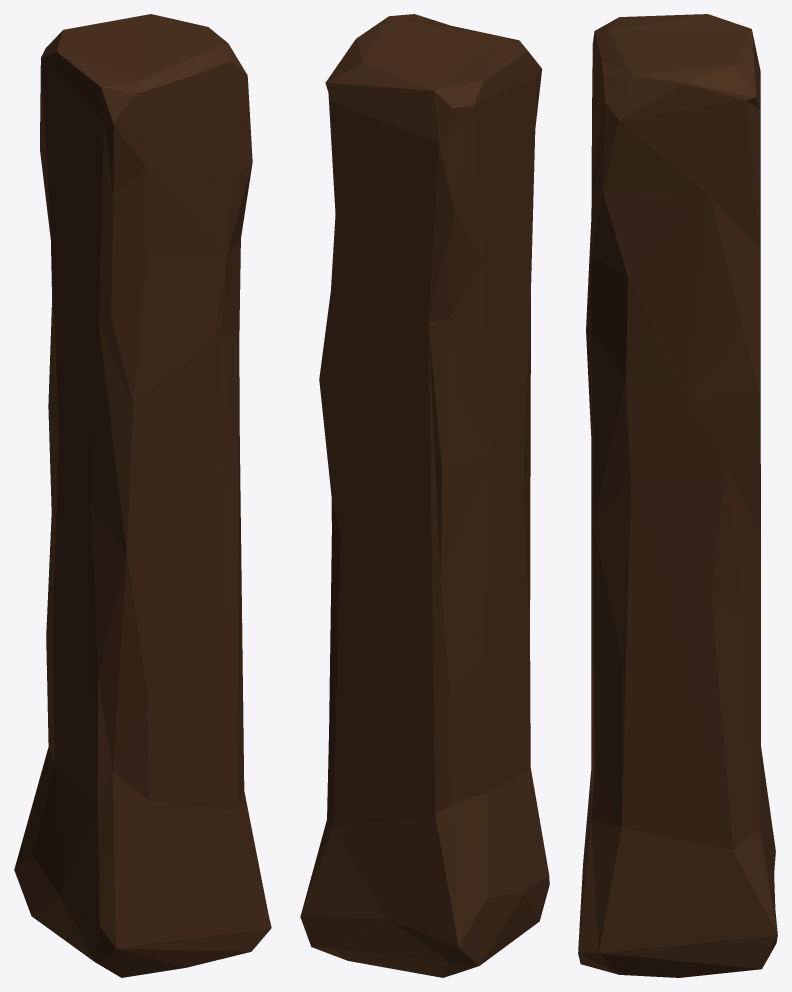
Rendered from HousePost-Wood.fbx.
3 views of the same model, side by side, from view 1: azimuth 30°, elevation 25°; view 2: azimuth 150°, elevation 25°; view 3: azimuth 270°, elevation 25° (orthographic).
Visible parts, largest first — view 1: Cube.001; view 2: Cube.001; view 3: Cube.001.
Boxes of the visible parts, x1,y1,x2,y2 form: Cube.001: (14, 14, 271, 977); Cube.001: (300, 14, 549, 977); Cube.001: (578, 14, 777, 977).
Bounding box in the file's own units: 189 × 924 × 186.
